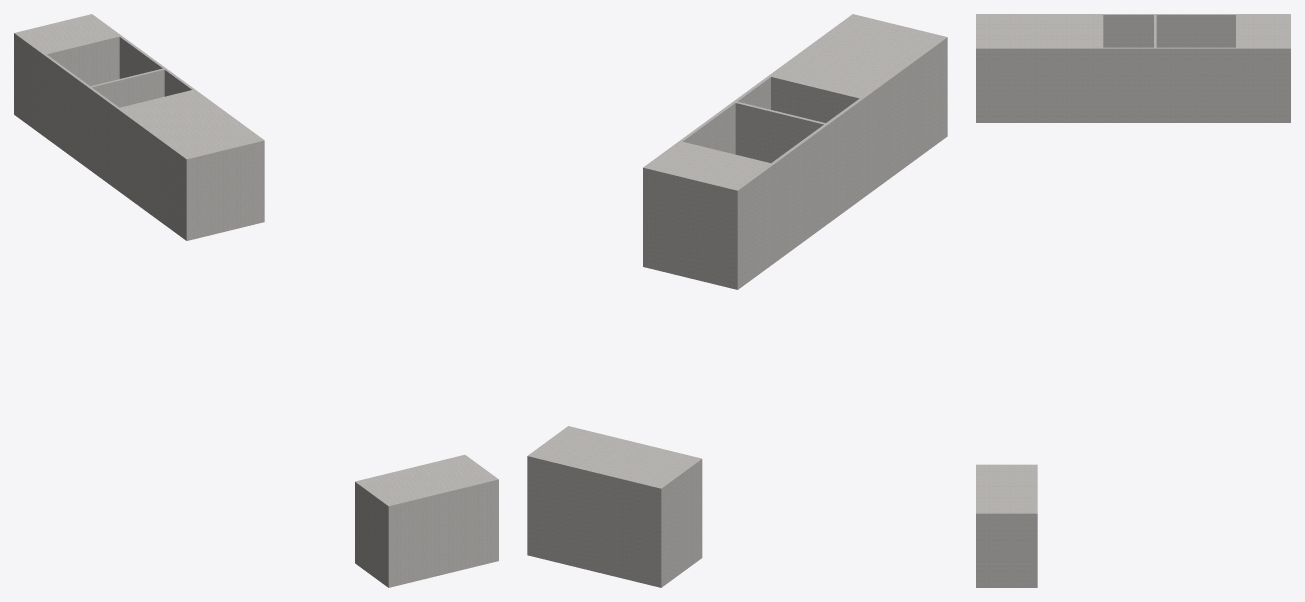
3 renders of one model, left to right at view 1: azimuth 30°, elevation 25°; view 2: azimuth 150°, elevation 25°; view 3: azimuth 270°, elevation 25°, orthographic. The views are drawn at different scales.
Bounding box in the file's own units: 24 × 35.1 × 23.
1 material, 1 textured.
